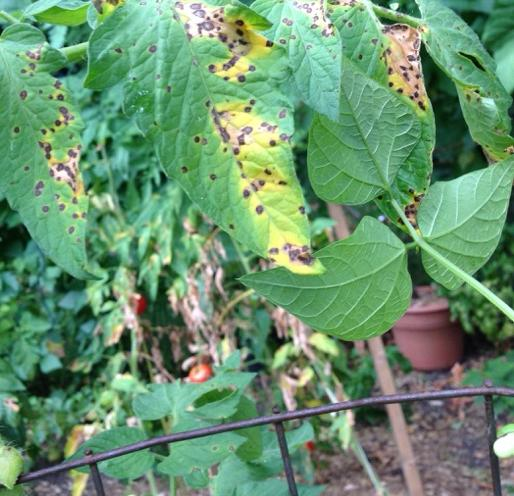Tomato Septoria leaf spot: (120, 0, 324, 275), (0, 22, 100, 272), (278, 0, 337, 133)
Tomato leaf: (416, 154, 513, 292)
